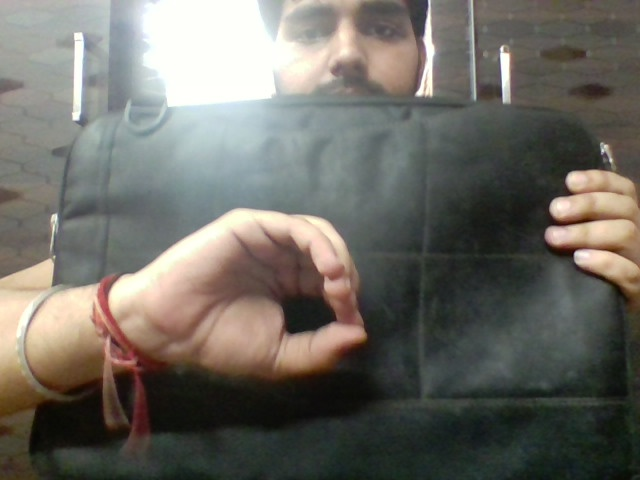o: (167, 194, 379, 405)
